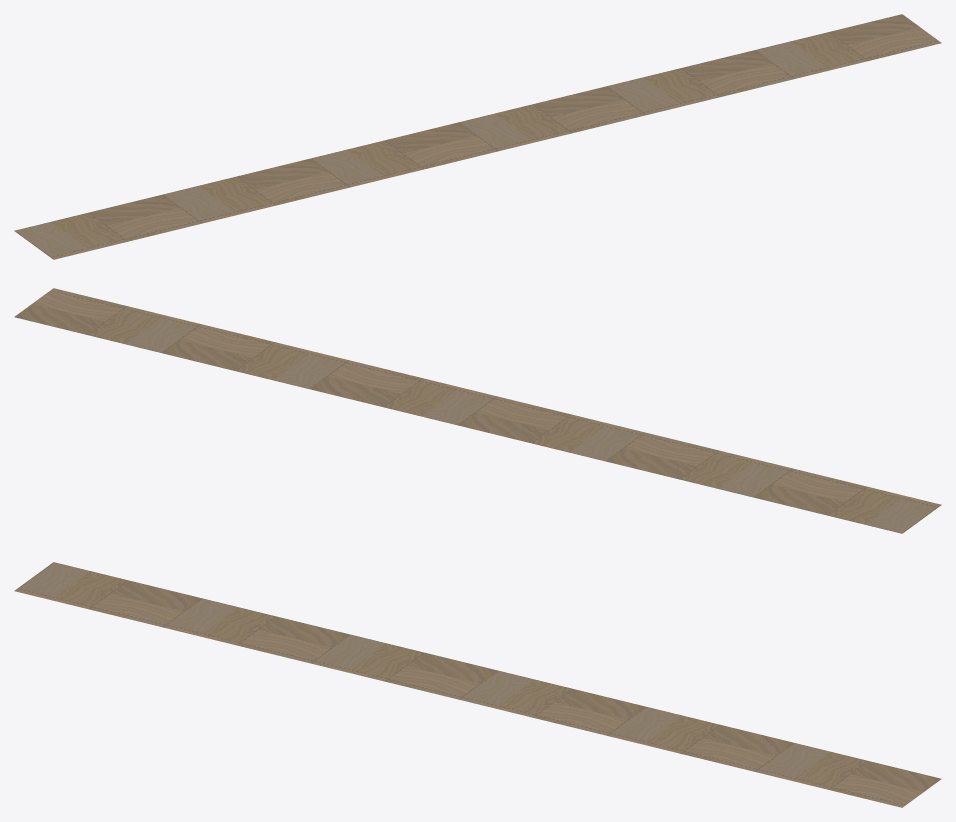
The model's file is kd_stage_135c43_4_23_bounded.glb.
The picture shows the model from 3 angles, top to bottom: view 1: azimuth 30°, elevation 25°; view 2: azimuth 150°, elevation 25°; view 3: azimuth 330°, elevation 25°; orthographic projection.
Visible parts, largest first — view 1: kd_stage_135c43_4_23_bounded; view 2: kd_stage_135c43_4_23_bounded; view 3: kd_stage_135c43_4_23_bounded.
Boxes of the visible parts, x1,y1,x2,y2 form: kd_stage_135c43_4_23_bounded: (14,14,941,259); kd_stage_135c43_4_23_bounded: (14,288,941,533); kd_stage_135c43_4_23_bounded: (14,562,941,807).
Bounding box in the file's own units: 4.51 × 0.000179 × 0.3484.
Materials: 1 (1 with a texture image).
